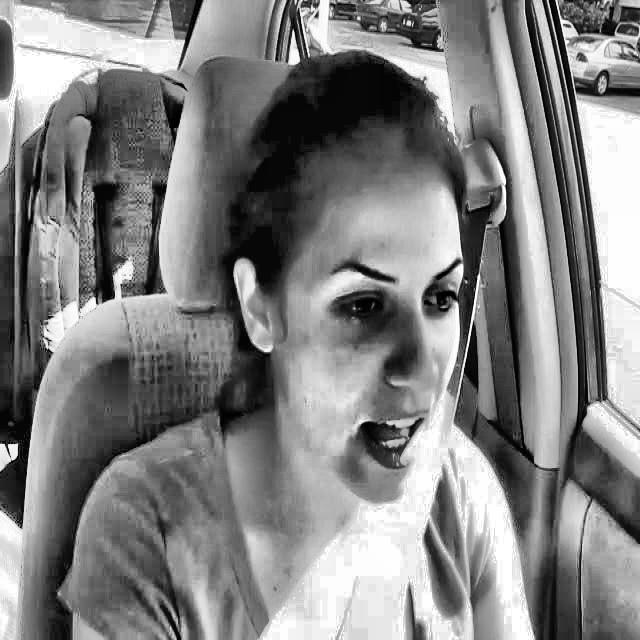open_eyes: (316, 281, 397, 333), (416, 278, 477, 331)
open_mouth: (342, 397, 447, 485)
